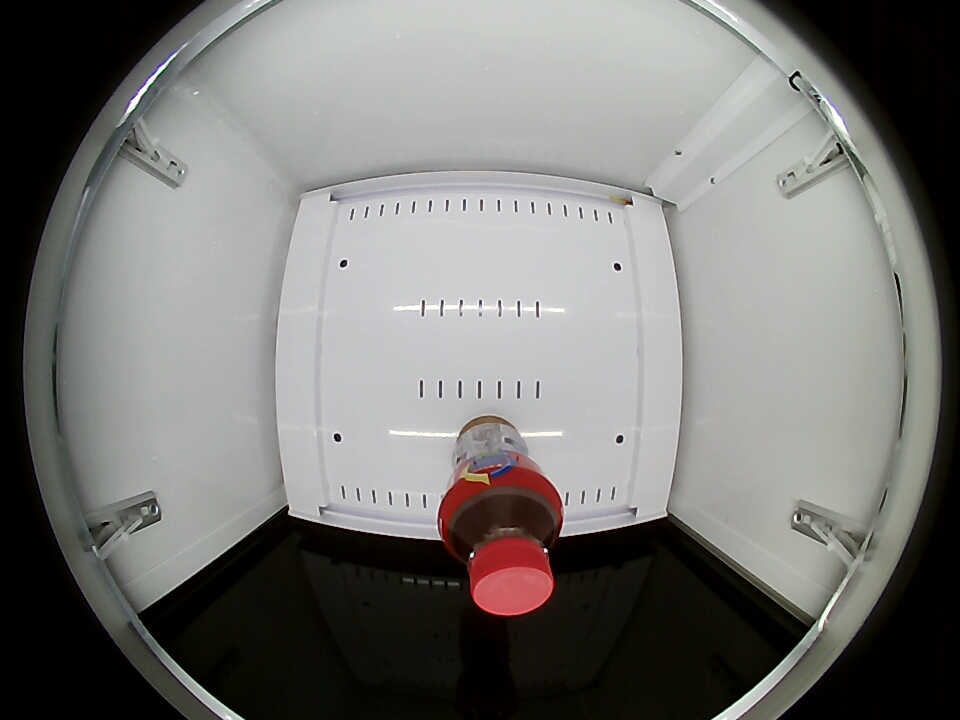binghongcha: (438, 474, 566, 616)
